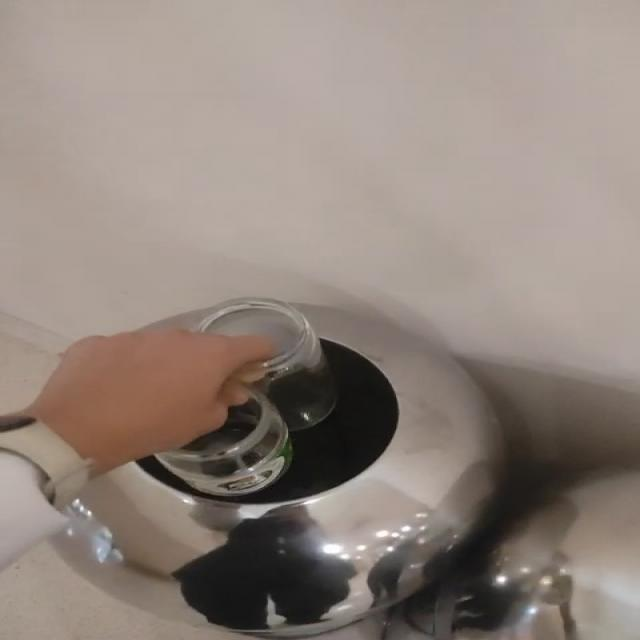glass: (155, 298, 337, 497)
